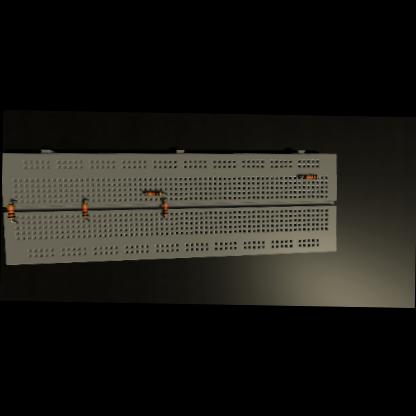breadboard: (0, 144, 336, 270)
resistor: (6, 203, 14, 218), (81, 203, 87, 217), (145, 191, 160, 196), (162, 201, 166, 215), (302, 174, 316, 178)
wire: (10, 219, 16, 222), (84, 218, 88, 221), (9, 200, 15, 202), (160, 192, 165, 194), (164, 214, 166, 218), (83, 200, 87, 202), (298, 176, 304, 177), (144, 192, 146, 194), (164, 198, 164, 200), (316, 176, 318, 176)
